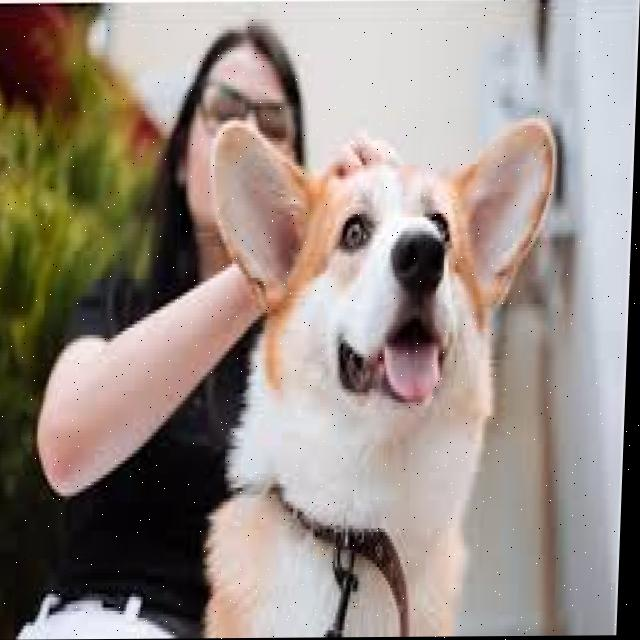CORGI: (185, 97, 566, 639)
